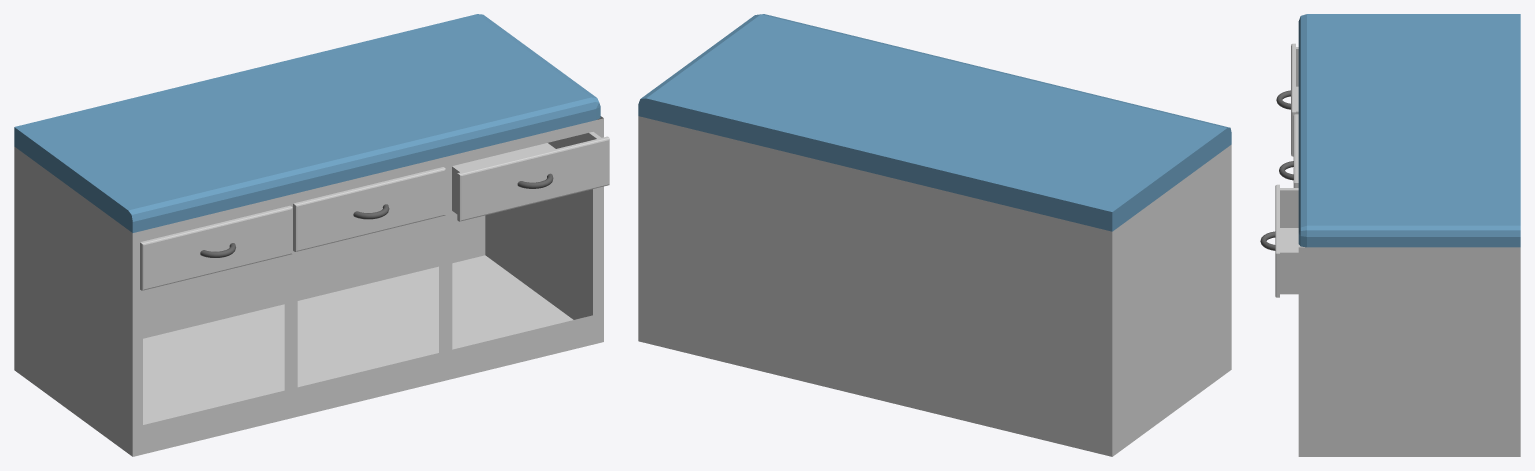
File: counter_mousehouse.FBX
3 renders of one model, left to right at view 1: azimuth 30°, elevation 25°; view 2: azimuth 150°, elevation 25°; view 3: azimuth 270°, elevation 25°, orthographic. The views are drawn at different scales.
Visible parts, largest first — view 1: counter, Object001, drawer002, drawer001, drawer; view 2: counter, Object001; view 3: Object001, counter, drawer002, drawer, drawer001.
Boxes of the visible parts, left/top/right/bottom form: counter: left=14, top=116, right=603, bottom=456; Object001: left=14, top=14, right=600, bottom=232; drawer002: left=452, top=132, right=609, bottom=221; drawer001: left=293, top=167, right=445, bottom=251; drawer: left=140, top=205, right=292, bottom=290; counter: left=638, top=116, right=1231, bottom=456; Object001: left=638, top=14, right=1231, bottom=231; Object001: left=1298, top=14, right=1520, bottom=247; counter: left=1298, top=247, right=1520, bottom=456; drawer002: left=1260, top=184, right=1304, bottom=297; drawer: left=1276, top=43, right=1298, bottom=156; drawer001: left=1279, top=114, right=1298, bottom=187.
Size of the model in its own units: 4416 by 2178 by 2256.
